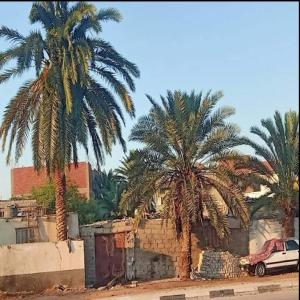palm tree: (0, 1, 140, 241), (115, 86, 254, 280), (249, 108, 299, 239)
